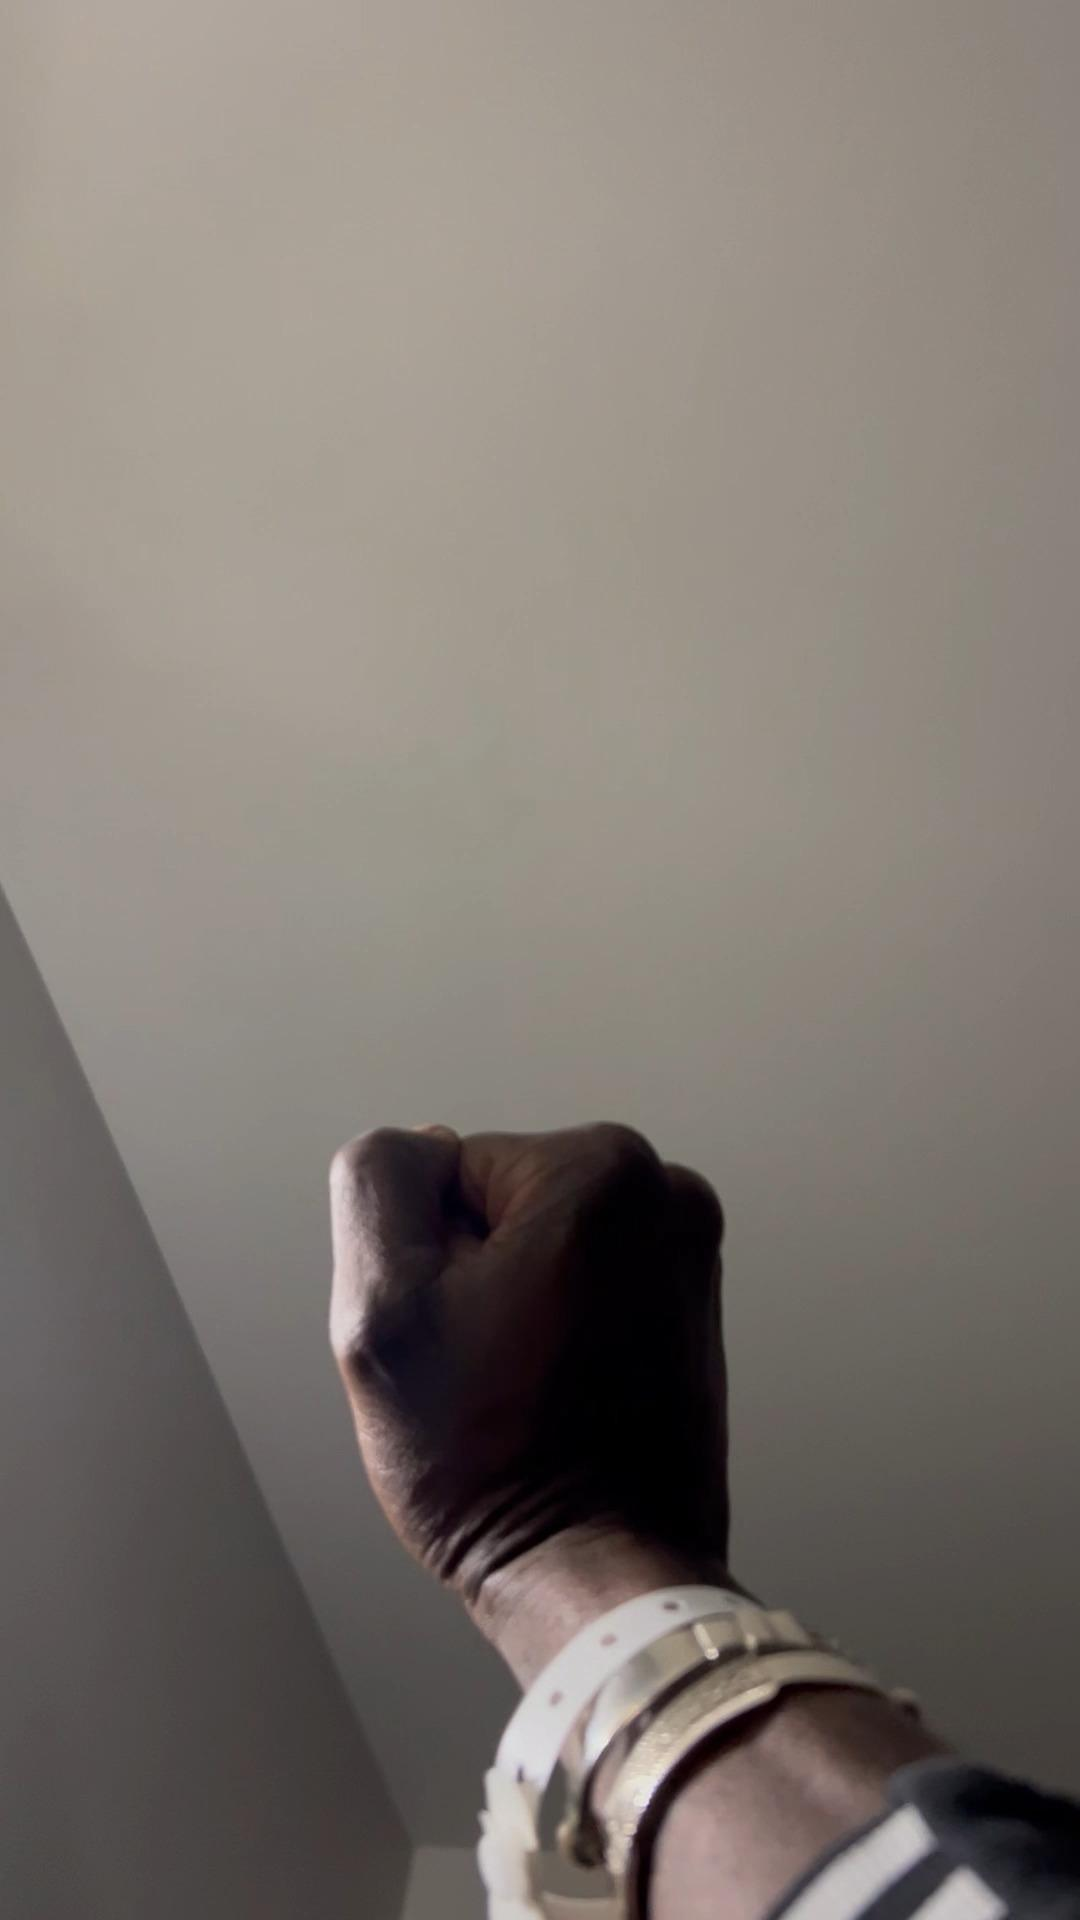Rock: (330, 1120, 748, 1605)
